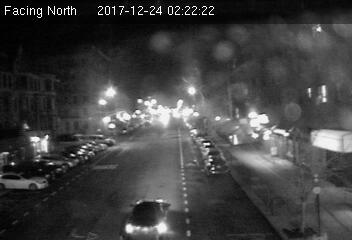car: (121, 196, 173, 240), (204, 154, 229, 174)
